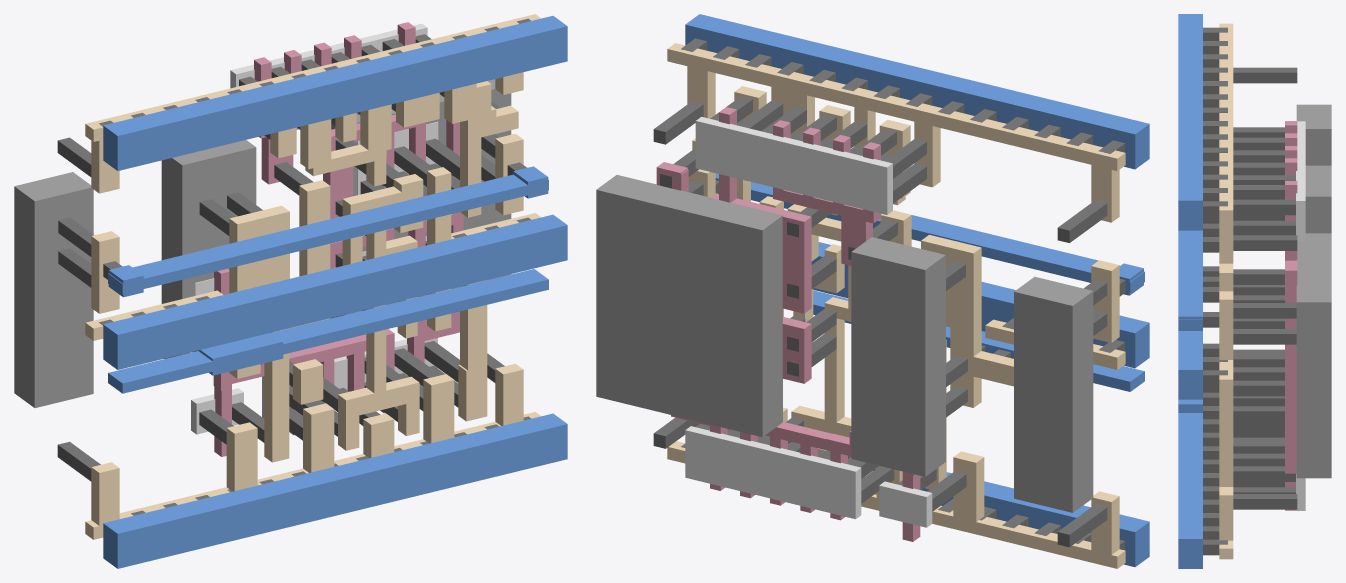
The model's file is sky130_fd_sc_hd__lpflow_lsbuf_lh_isowell_tap_1.gds.gltf.
3 renders of one model, left to right at view 1: azimuth 30°, elevation 25°; view 2: azimuth 150°, elevation 25°; view 3: azimuth 270°, elevation 25°, orthographic. The views are drawn at different scales.
Visible parts, largest first — view 1: sky130_fd_sc_hd__lpflow_lsbuf_lh_isowell_tap_1_met1, sky130_fd_sc_hd__lpflow_lsbuf_lh_isowell_tap_1_li1, sky130_fd_sc_hd__lpflow_lsbuf_lh_isowell_tap_1_nwell, sky130_fd_sc_hd__lpflow_lsbuf_lh_isowell_tap_1_licon, sky130_fd_sc_hd__lpflow_lsbuf_lh_isowell_tap_1_poly, sky130_fd_sc_hd__lpflow_lsbuf_lh_isowell_tap_1_diff, sky130_fd_sc_hd__lpflow_lsbuf_lh_isowell_tap_1_mcon; view 2: sky130_fd_sc_hd__lpflow_lsbuf_lh_isowell_tap_1_nwell, sky130_fd_sc_hd__lpflow_lsbuf_lh_isowell_tap_1_li1, sky130_fd_sc_hd__lpflow_lsbuf_lh_isowell_tap_1_met1, sky130_fd_sc_hd__lpflow_lsbuf_lh_isowell_tap_1_diff, sky130_fd_sc_hd__lpflow_lsbuf_lh_isowell_tap_1_licon, sky130_fd_sc_hd__lpflow_lsbuf_lh_isowell_tap_1_poly, sky130_fd_sc_hd__lpflow_lsbuf_lh_isowell_tap_1_mcon; view 3: sky130_fd_sc_hd__lpflow_lsbuf_lh_isowell_tap_1_licon, sky130_fd_sc_hd__lpflow_lsbuf_lh_isowell_tap_1_met1, sky130_fd_sc_hd__lpflow_lsbuf_lh_isowell_tap_1_nwell, sky130_fd_sc_hd__lpflow_lsbuf_lh_isowell_tap_1_mcon, sky130_fd_sc_hd__lpflow_lsbuf_lh_isowell_tap_1_li1, sky130_fd_sc_hd__lpflow_lsbuf_lh_isowell_tap_1_poly, sky130_fd_sc_hd__lpflow_lsbuf_lh_isowell_tap_1_diff.
Part boxes in pixels (left/top/right/bottom): sky130_fd_sc_hd__lpflow_lsbuf_lh_isowell_tap_1_met1: left=103, top=16, right=567, bottom=568; sky130_fd_sc_hd__lpflow_lsbuf_lh_isowell_tap_1_li1: left=85, top=14, right=541, bottom=539; sky130_fd_sc_hd__lpflow_lsbuf_lh_isowell_tap_1_nwell: left=14, top=79, right=511, bottom=407; sky130_fd_sc_hd__lpflow_lsbuf_lh_isowell_tap_1_licon: left=57, top=34, right=504, bottom=481; sky130_fd_sc_hd__lpflow_lsbuf_lh_isowell_tap_1_poly: left=213, top=22, right=463, bottom=456; sky130_fd_sc_hd__lpflow_lsbuf_lh_isowell_tap_1_diff: left=191, top=23, right=438, bottom=434; sky130_fd_sc_hd__lpflow_lsbuf_lh_isowell_tap_1_mcon: left=99, top=18, right=531, bottom=515; sky130_fd_sc_hd__lpflow_lsbuf_lh_isowell_tap_1_nwell: left=596, top=175, right=1093, bottom=512; sky130_fd_sc_hd__lpflow_lsbuf_lh_isowell_tap_1_li1: left=667, top=43, right=1125, bottom=568; sky130_fd_sc_hd__lpflow_lsbuf_lh_isowell_tap_1_met1: left=685, top=14, right=1149, bottom=566; sky130_fd_sc_hd__lpflow_lsbuf_lh_isowell_tap_1_diff: left=685, top=116, right=932, bottom=527; sky130_fd_sc_hd__lpflow_lsbuf_lh_isowell_tap_1_licon: left=653, top=96, right=1107, bottom=547; sky130_fd_sc_hd__lpflow_lsbuf_lh_isowell_tap_1_poly: left=656, top=107, right=920, bottom=541; sky130_fd_sc_hd__lpflow_lsbuf_lh_isowell_tap_1_mcon: left=681, top=38, right=1125, bottom=550; sky130_fd_sc_hd__lpflow_lsbuf_lh_isowell_tap_1_licon: left=1233, top=67, right=1297, bottom=509; sky130_fd_sc_hd__lpflow_lsbuf_lh_isowell_tap_1_met1: left=1178, top=14, right=1202, bottom=568; sky130_fd_sc_hd__lpflow_lsbuf_lh_isowell_tap_1_nwell: left=1296, top=104, right=1331, bottom=478; sky130_fd_sc_hd__lpflow_lsbuf_lh_isowell_tap_1_mcon: left=1203, top=27, right=1227, bottom=555; sky130_fd_sc_hd__lpflow_lsbuf_lh_isowell_tap_1_li1: left=1219, top=23, right=1233, bottom=559; sky130_fd_sc_hd__lpflow_lsbuf_lh_isowell_tap_1_poly: left=1285, top=121, right=1297, bottom=510; sky130_fd_sc_hd__lpflow_lsbuf_lh_isowell_tap_1_diff: left=1296, top=121, right=1305, bottom=510.
Size of the model in its own units: 6.82 by 5.92 by 2.24.
